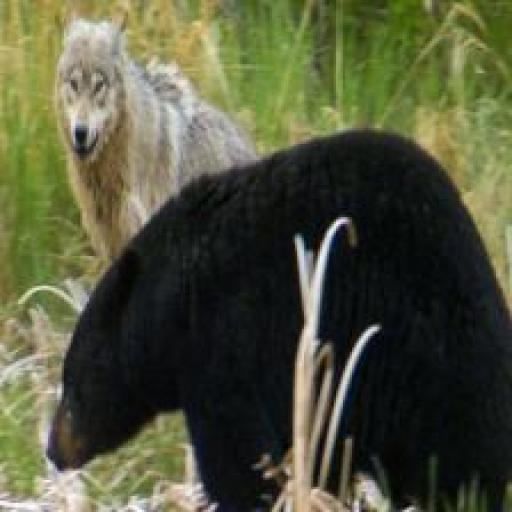wolf: (57, 11, 263, 304)
